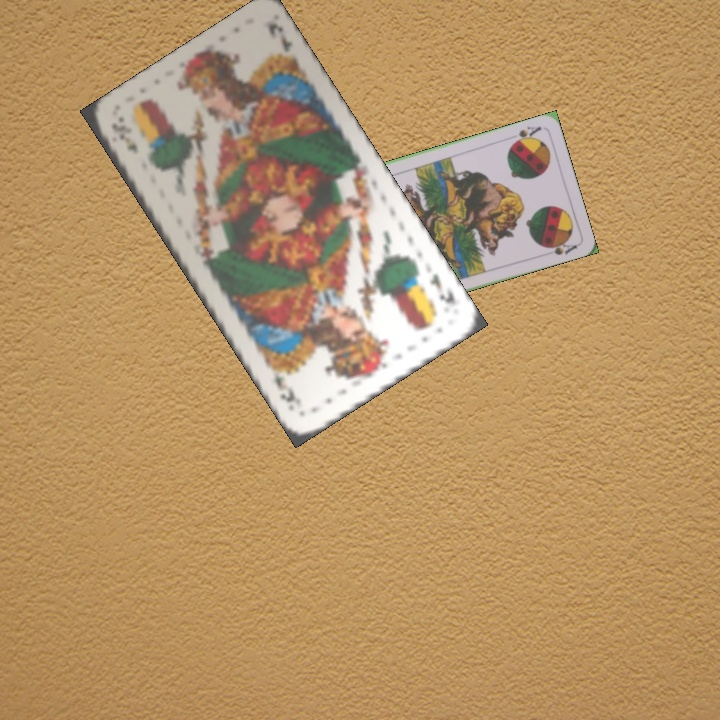EK: (107, 118, 141, 157), (425, 268, 458, 308)
SA: (507, 122, 544, 147)
